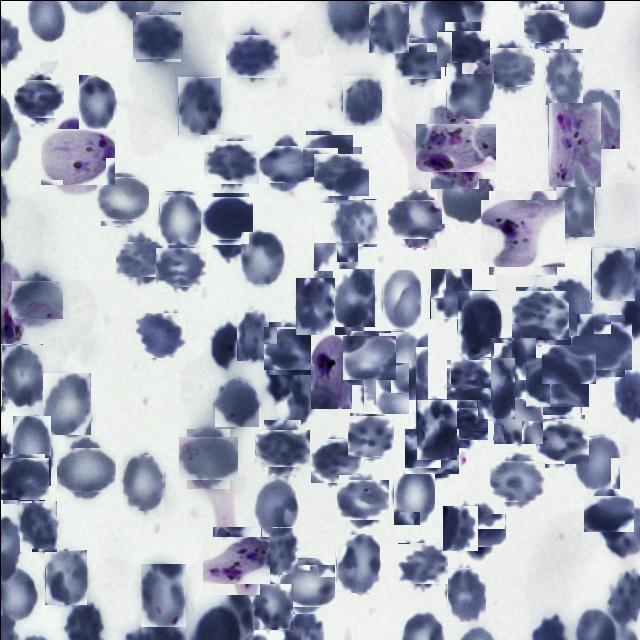red blood cell: (377, 330, 427, 399), (528, 354, 584, 410), (572, 318, 628, 372), (42, 372, 90, 434), (512, 288, 566, 342), (489, 336, 535, 398), (140, 563, 185, 626), (571, 89, 619, 148), (456, 289, 500, 353), (445, 61, 493, 118), (60, 442, 112, 494), (182, 432, 234, 484), (12, 415, 50, 485), (548, 278, 593, 336), (0, 343, 42, 405), (335, 533, 379, 592), (392, 463, 434, 524), (415, 398, 456, 459), (206, 137, 256, 187), (492, 394, 542, 444), (406, 425, 456, 475), (177, 76, 220, 134), (312, 241, 357, 296), (536, 416, 586, 465), (282, 560, 331, 610), (332, 268, 374, 326), (392, 194, 441, 243), (343, 333, 392, 382), (228, 30, 276, 80), (492, 456, 542, 504), (122, 453, 164, 510), (574, 435, 619, 488), (240, 232, 284, 286), (254, 480, 297, 535), (476, 356, 514, 418), (266, 323, 314, 372), (381, 268, 420, 328), (441, 178, 493, 223), (590, 247, 634, 300), (44, 549, 86, 604), (311, 436, 359, 484), (202, 194, 250, 242), (316, 150, 364, 198), (134, 12, 182, 60), (362, 363, 409, 412), (158, 190, 200, 244), (136, 311, 184, 358), (98, 175, 146, 222), (544, 339, 592, 386), (295, 277, 334, 334), (258, 424, 305, 470), (554, 182, 594, 236), (429, 267, 471, 318), (544, 48, 582, 104), (262, 140, 308, 186), (399, 540, 445, 586), (0, 455, 46, 501), (332, 198, 376, 246), (214, 378, 258, 426), (446, 567, 485, 621), (339, 477, 385, 522), (304, 132, 349, 178), (342, 74, 382, 125), (14, 276, 59, 321), (368, 2, 408, 52), (327, 301, 364, 355), (78, 74, 114, 129), (16, 76, 61, 120), (487, 44, 532, 88), (456, 508, 501, 552), (440, 26, 484, 71), (18, 499, 56, 551), (348, 413, 392, 457), (158, 244, 202, 288), (586, 492, 630, 535), (119, 237, 162, 280), (252, 583, 292, 629), (446, 358, 488, 401), (260, 526, 297, 574), (396, 40, 438, 82), (236, 309, 270, 360), (442, 402, 483, 443), (526, 5, 566, 46), (442, 505, 477, 550)
trophozoite: (484, 194, 560, 270), (547, 101, 600, 186), (44, 124, 110, 189), (422, 116, 487, 180), (207, 531, 264, 589), (310, 334, 351, 408)
